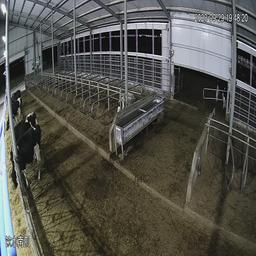cow: (8, 122, 46, 191), (8, 111, 37, 138), (116, 88, 136, 110), (214, 80, 228, 111), (7, 90, 23, 115)
